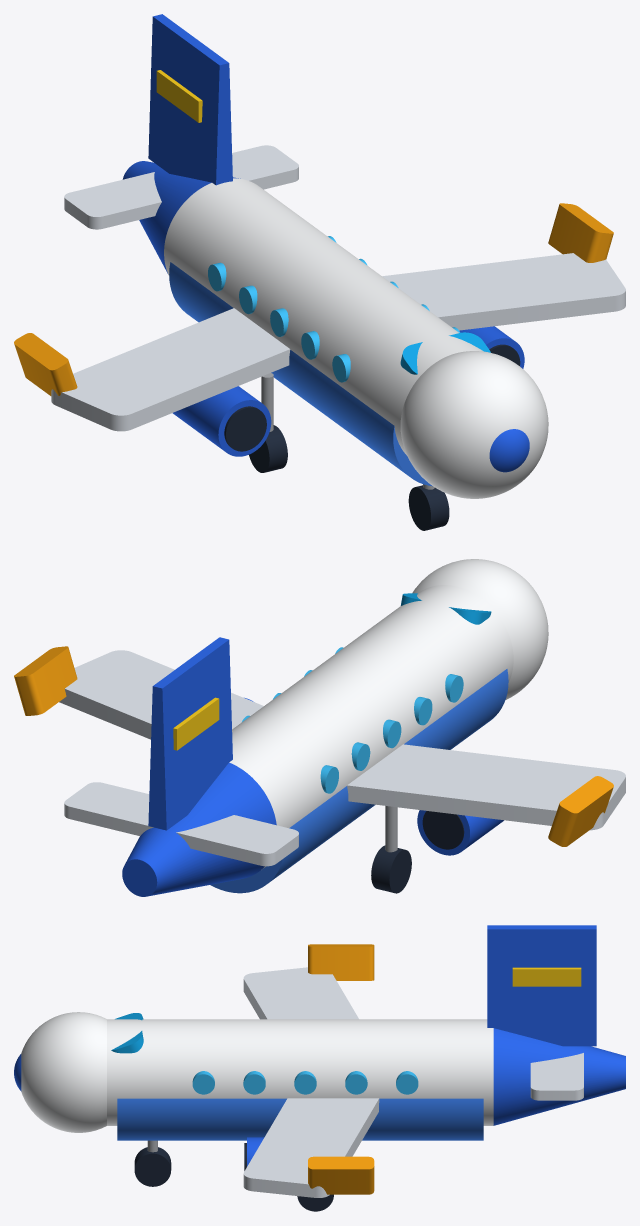
File: airplane.glb
3 views of the same model, one above another, from view 1: azimuth 30°, elevation 25°; view 2: azimuth 150°, elevation 25°; view 3: azimuth 270°, elevation 25° (orthographic). The views are drawn at different scales.
Visible parts, largest first — view 1: fuselage, nose, wing_L, wing_R, tail_fin, belly_stripe, h_stab, engine_L, tail_cone, wingtip_R, wingtip_L, intake_L (+6 smaller); view 2: fuselage, wing_L, tail_fin, tail_cone, h_stab, belly_stripe, nose, wing_R, wingtip_R, wingtip_L, gear_w_1, intake_L (+6 smaller); view 3: fuselage, belly_stripe, tail_fin, nose, wing_R, tail_cone, wing_L, wingtip_R, wingtip_L, h_stab, fin_stripe, gear_w_0 (+7 smaller).
Boxes of the visible parts, x1,y1,x2,y2 form: fuselage: (164, 178, 483, 455); nose: (400, 351, 548, 498); wing_L: (51, 308, 290, 431); wing_R: (382, 253, 625, 330); tail_fin: (148, 14, 232, 185); belly_stripe: (169, 262, 432, 486); h_stab: (64, 145, 298, 229); engine_L: (172, 386, 271, 456); tail_cone: (122, 161, 240, 273); wingtip_R: (548, 203, 613, 262); wingtip_L: (14, 333, 77, 395); intake_L: (224, 406, 266, 451); fuselage: (229, 585, 513, 869); wing_L: (347, 744, 625, 830); tail_fin: (148, 637, 232, 830); tail_cone: (122, 762, 276, 896); h_stab: (64, 782, 298, 866); belly_stripe: (210, 669, 508, 893); nose: (412, 559, 548, 699); wing_R: (59, 650, 263, 739); wingtip_R: (14, 646, 77, 715); wingtip_L: (548, 776, 613, 846); gear_w_1: (371, 845, 411, 893); intake_L: (422, 811, 464, 849); fuselage: (107, 1019, 493, 1125); belly_stripe: (117, 1098, 483, 1140); tail_fin: (487, 925, 596, 1046); nose: (21, 1012, 106, 1132); wing_R: (243, 1098, 379, 1197); tail_cone: (493, 1028, 625, 1125); wing_L: (243, 967, 358, 1019); wingtip_R: (308, 1156, 374, 1194); wingtip_L: (308, 944, 374, 980); h_stab: (530, 1053, 583, 1100); fin_stripe: (512, 967, 581, 986); gear_w_0: (134, 1147, 171, 1186).
Bounding box in the file's own units: 1.05 × 0.555 × 1.2.
